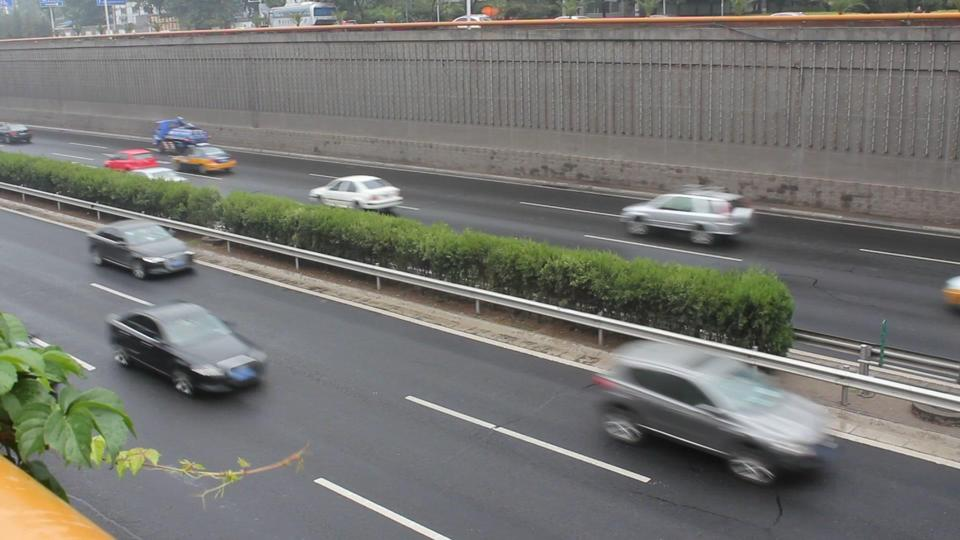bicycle: (153, 124, 209, 151)
car: (585, 339, 841, 487), (106, 300, 268, 399), (620, 189, 756, 246), (86, 219, 196, 280), (309, 175, 404, 212), (167, 144, 238, 174), (102, 147, 160, 172), (940, 274, 960, 315), (0, 122, 34, 144)
